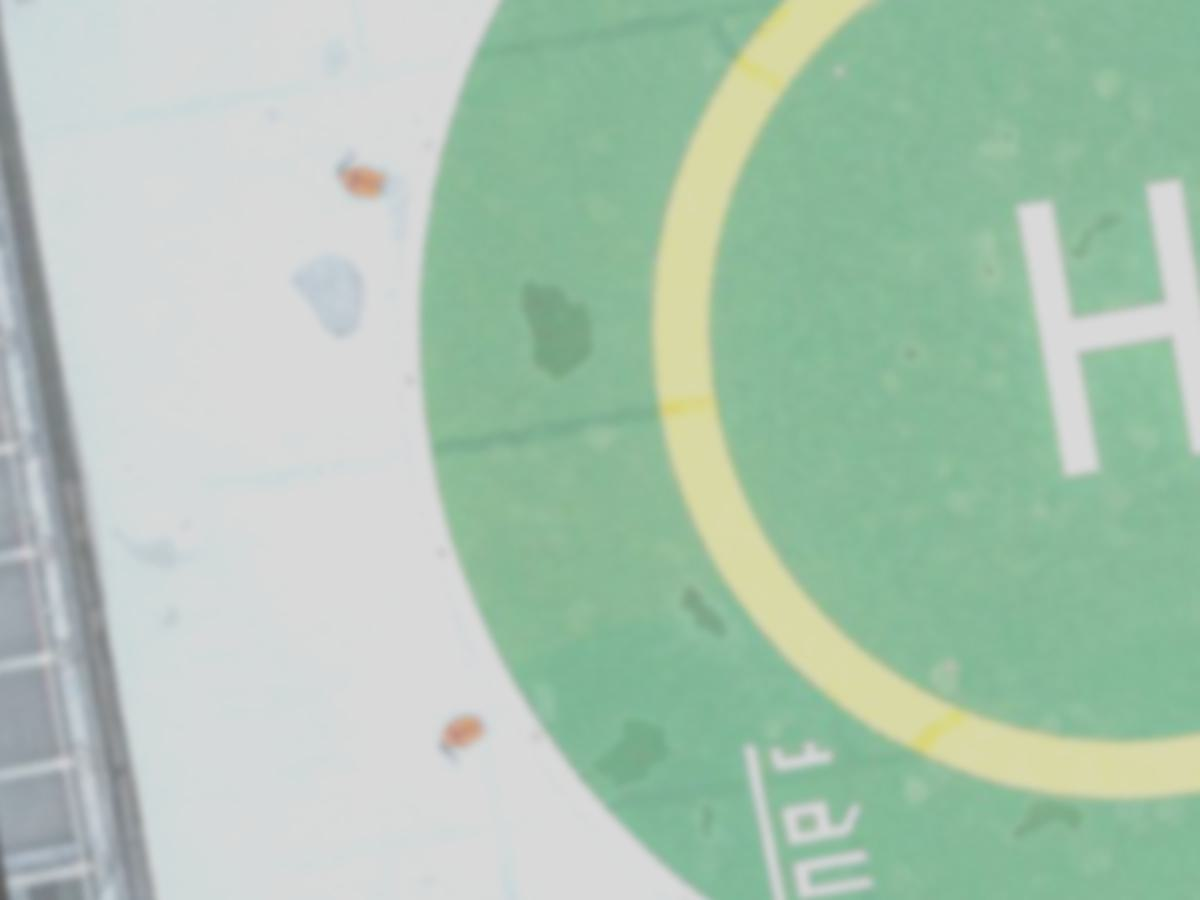Apron: (634, 4, 1197, 808)
